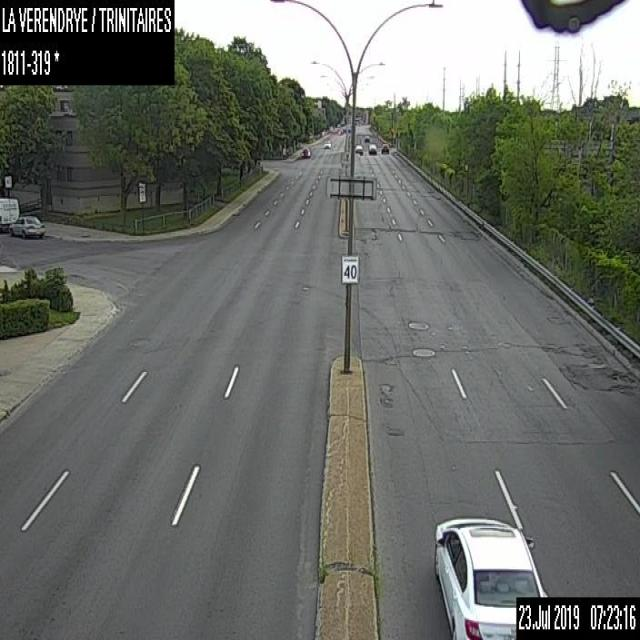vehicle: (432, 513, 550, 639), (9, 214, 45, 237), (0, 197, 19, 231), (301, 147, 310, 158), (380, 143, 389, 153), (368, 143, 376, 154), (354, 144, 362, 154), (322, 139, 330, 148), (364, 134, 369, 142), (338, 128, 343, 134)
